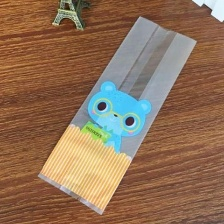snack: (31, 9, 202, 219)
